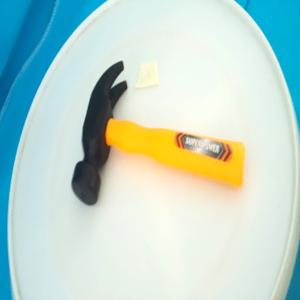martelo: (71, 62, 245, 206)
